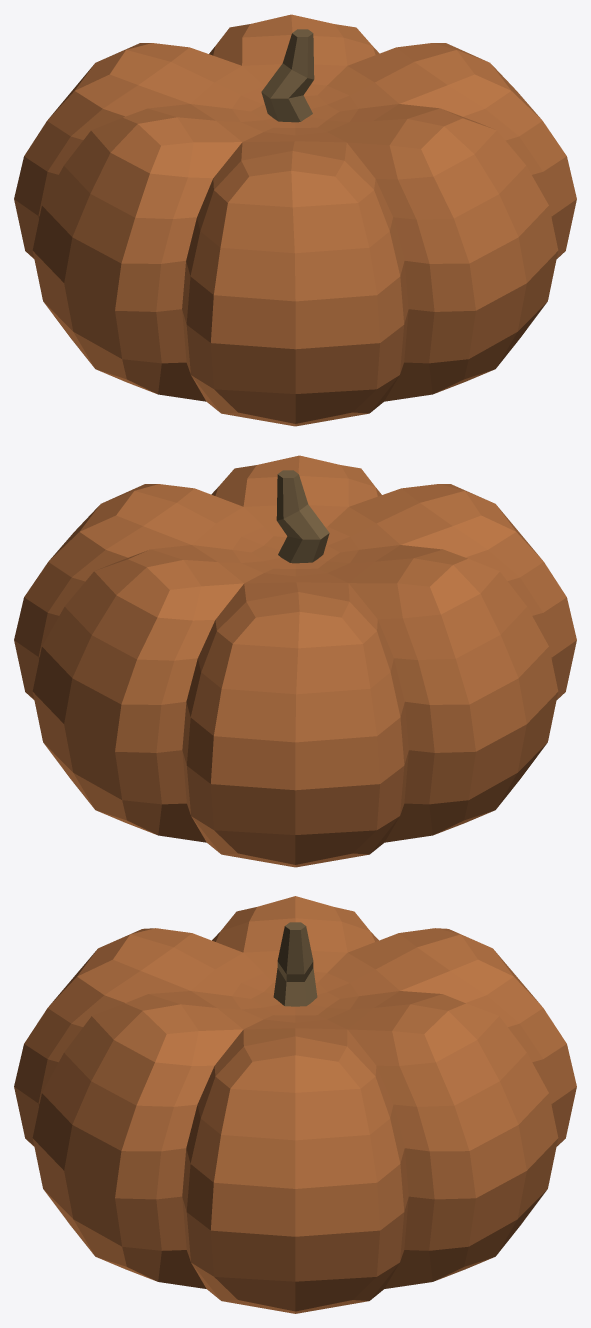
File: Pumpkin.glb
3 views of the same model, one above another, from view 1: azimuth 30°, elevation 25°; view 2: azimuth 150°, elevation 25°; view 3: azimuth 270°, elevation 25° (orthographic).
Visible parts, largest first — view 1: Pumpkin; view 2: Pumpkin; view 3: Pumpkin.
Part boxes in pixels (x1,y1,x2,y2): Pumpkin: [14, 14, 576, 426]; Pumpkin: [14, 455, 576, 867]; Pumpkin: [14, 896, 576, 1313].
Bounding box in the file's own units: 1.5 × 0.9309 × 1.51.
